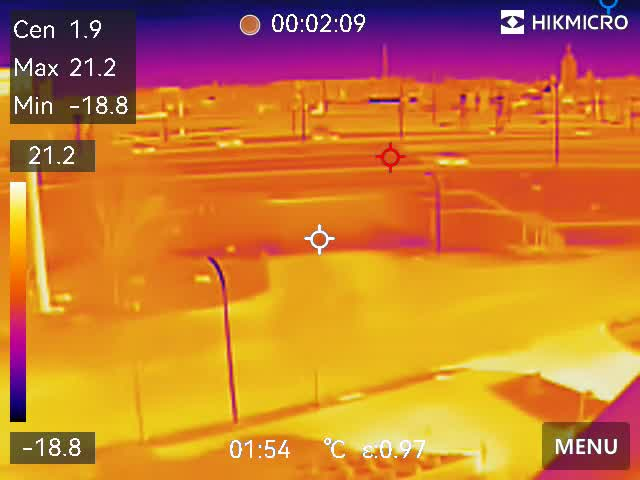vehicle: (428, 151, 474, 169), (305, 129, 345, 143), (211, 135, 246, 150), (128, 142, 159, 157)
